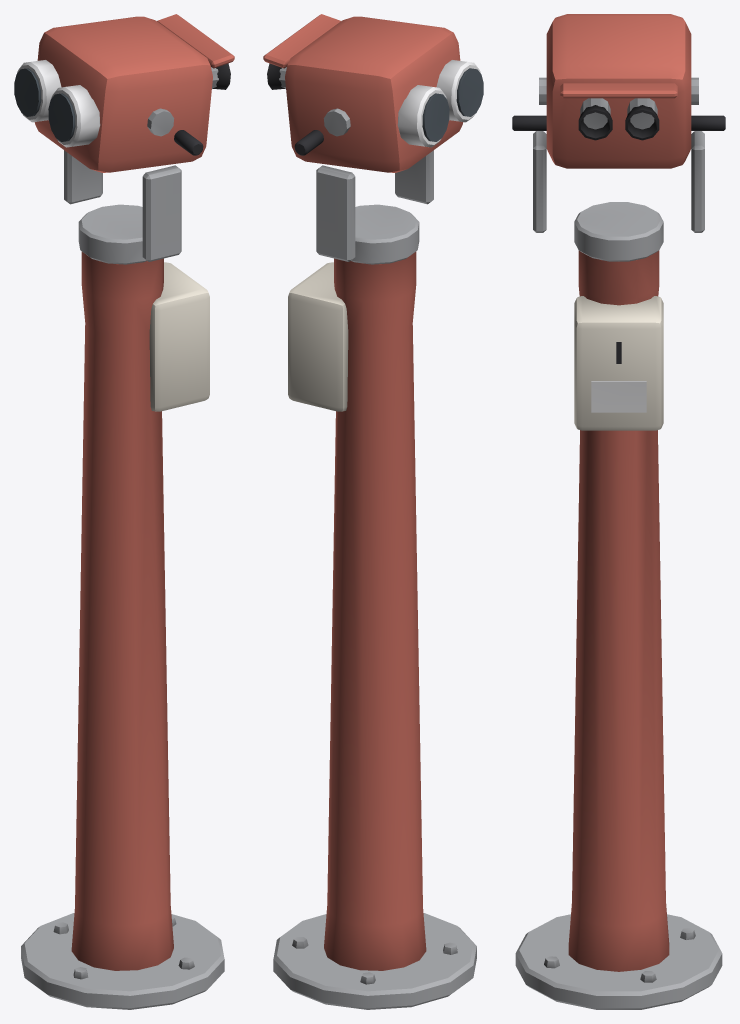
Rendered from scope.glb.
3 views of the same model, side by side, from view 1: azimuth 30°, elevation 25°; view 2: azimuth 150°, elevation 25°; view 3: azimuth 270°, elevation 25° (orthographic).
Parts seen in each view (by area): view 1: PART; view 2: PART; view 3: PART.
Boxes of the visible parts, x1,y1,x2,y2 form: PART: (14,14,234,1009); PART: (263,14,483,1009); PART: (512,14,725,1009).
Bounding box in the file's own units: 0.2967 × 1.5 × 0.31.
